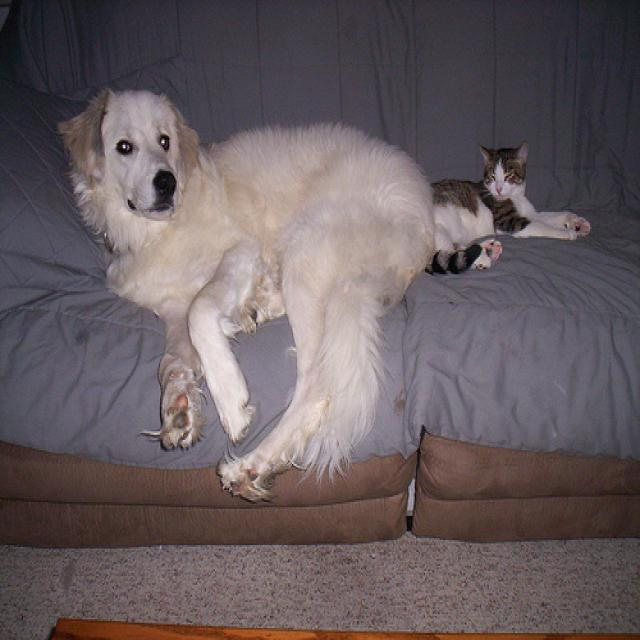dog-great_pyrenees: (41, 72, 442, 516)
